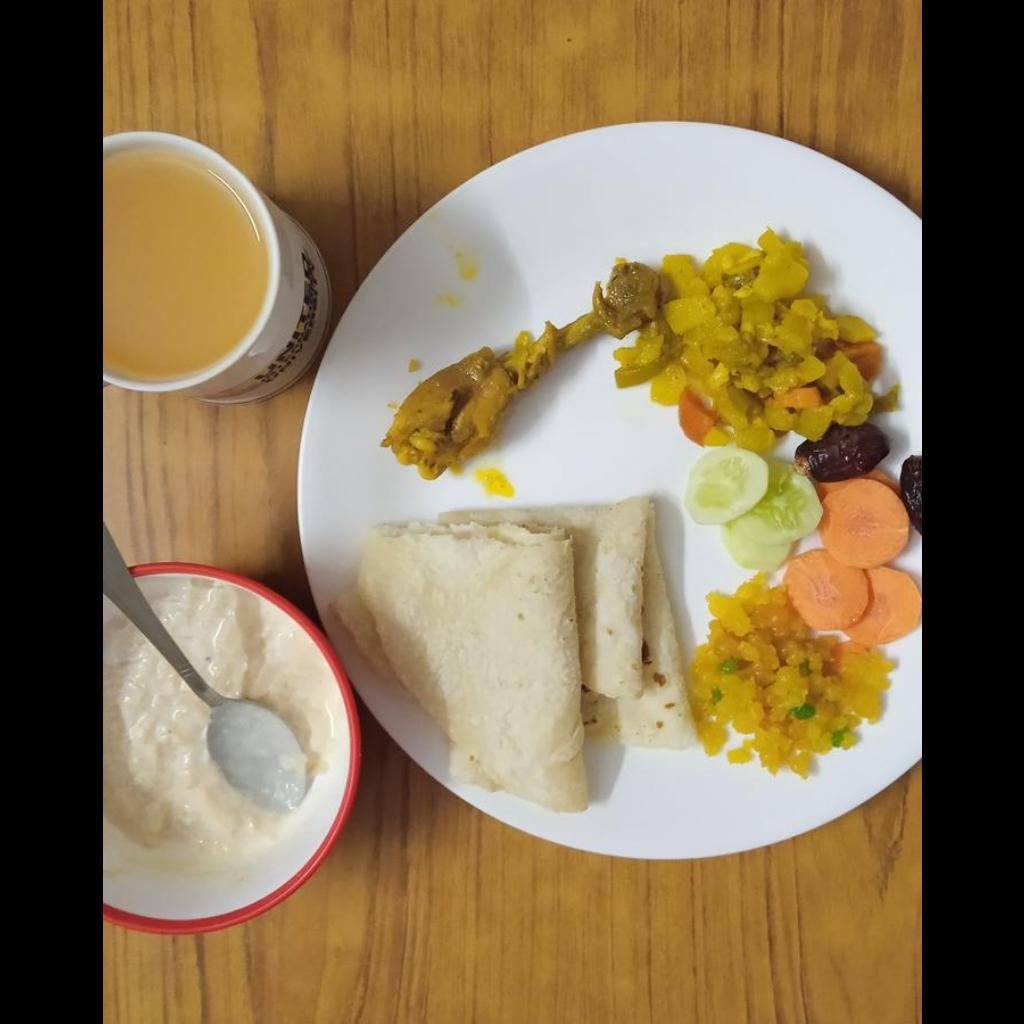burinda: (701, 589, 884, 777)
carrot: (789, 485, 915, 634)
chicken: (374, 251, 661, 471)
cucumber: (687, 445, 816, 573)
dates: (794, 422, 888, 484), (897, 455, 920, 535)
juice: (102, 154, 271, 379)
payesh: (102, 562, 359, 932)
ruti: (332, 499, 691, 809)
vegetable: (616, 232, 881, 444)
